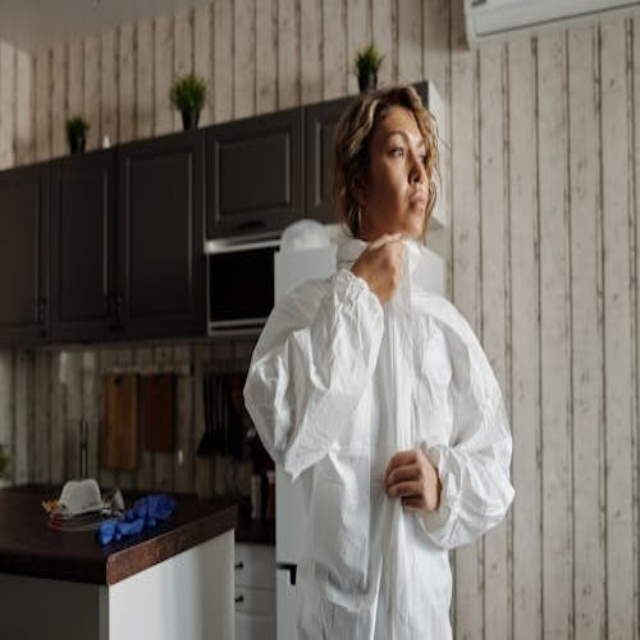Sin_gafas: (380, 128, 429, 169)
Sin_guantes: (339, 226, 412, 303), (380, 437, 438, 519)
Sin_mascara: (389, 180, 433, 234)
